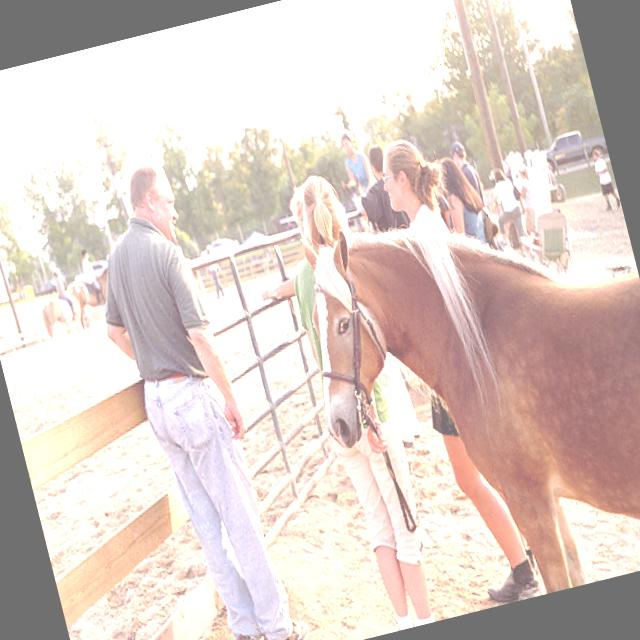Vehicle: (541, 124, 609, 170), (196, 232, 240, 256), (90, 258, 112, 276)
